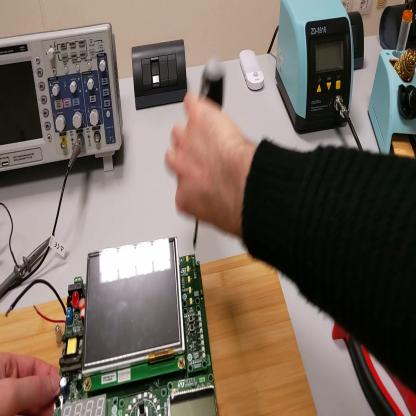hand: (165, 93, 250, 237), (1, 352, 61, 414)
low voltage board: (8, 236, 221, 415)
oscilloscope: (2, 26, 125, 180)
oscilloscope probe tip: (3, 233, 53, 296)
pliers: (330, 319, 416, 415)
screwdriver-: (195, 69, 226, 255)
socket: (381, 5, 416, 50), (349, 15, 367, 70)
welder base: (370, 2, 416, 159)
welder station: (277, 2, 355, 135)
working area: (1, 255, 318, 416)
